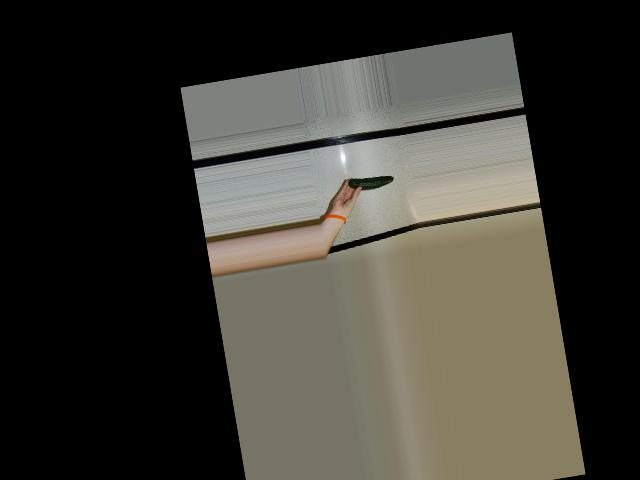cucumber: (347, 171, 395, 192)
